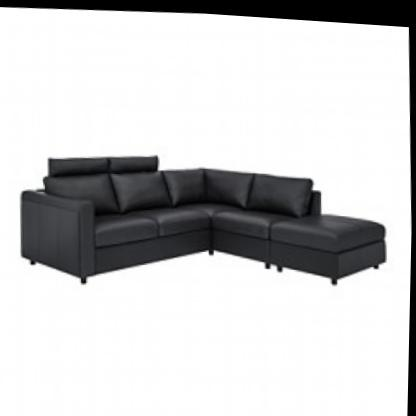Sofa: (12, 124, 391, 312)
